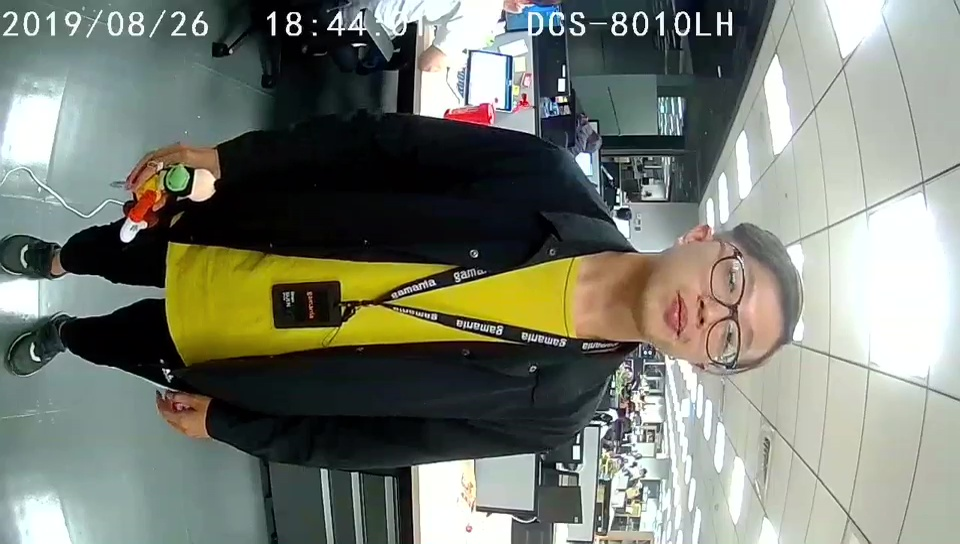goofy: (119, 162, 217, 244)
